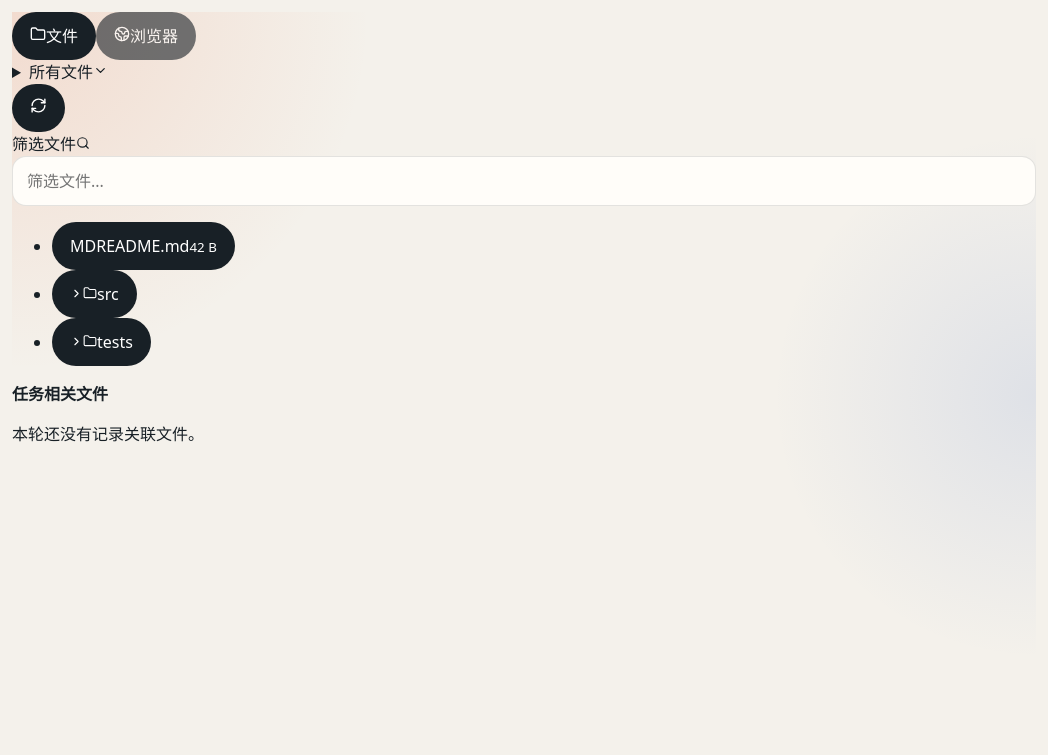
Test case: FileWorkspacePanel › shows changed files above the tree and opens their diff as review context
Click the heading named "选择文件范围".
click(68, 72)  # box [29,61,108,83]
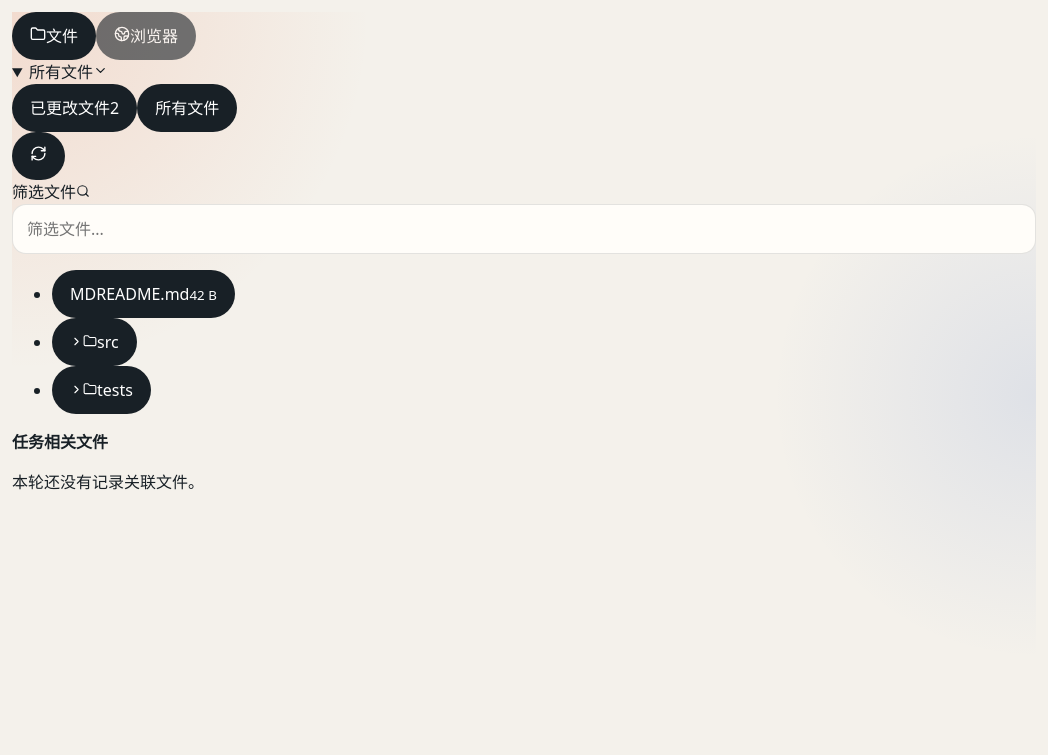
Click the menu item "已更改文件2".
click(75, 108)  # box [12,84,137,132]
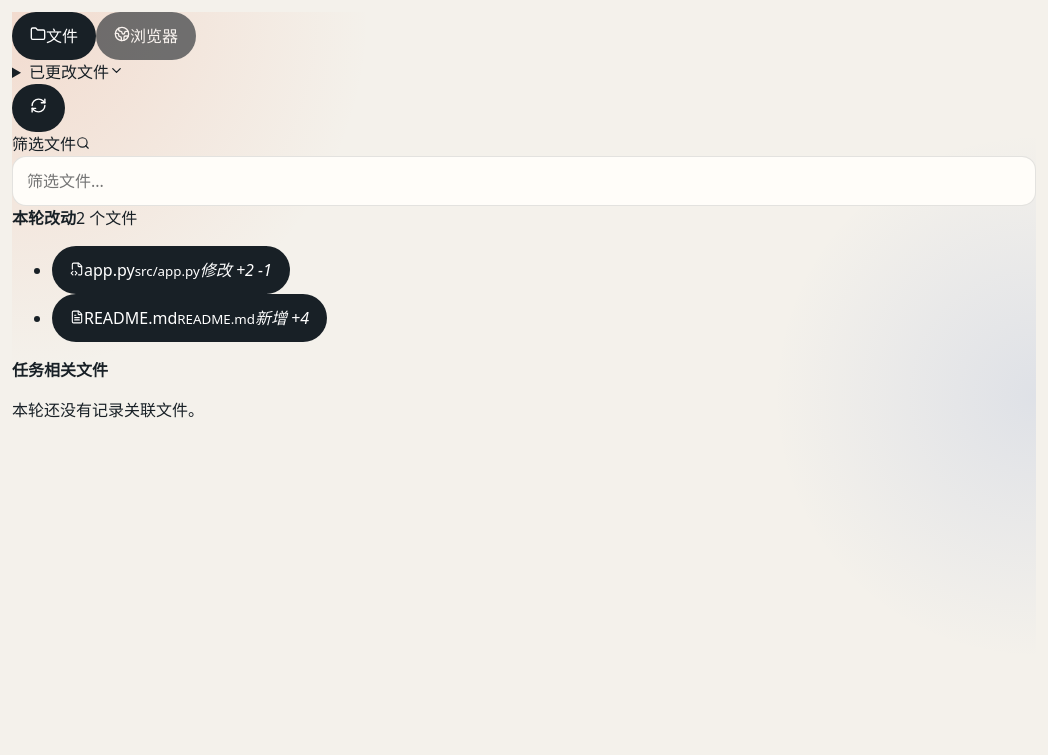
expect the text "本轮改动" is shown: met, box [12,207,76,229]
expect the text "2 个文件" is shown: met, box [76,207,137,229]
expect the button "app.py" shows "修改 +2 -1": met
Click the button "app.py".
click(171, 270)  # box [52,246,290,294]
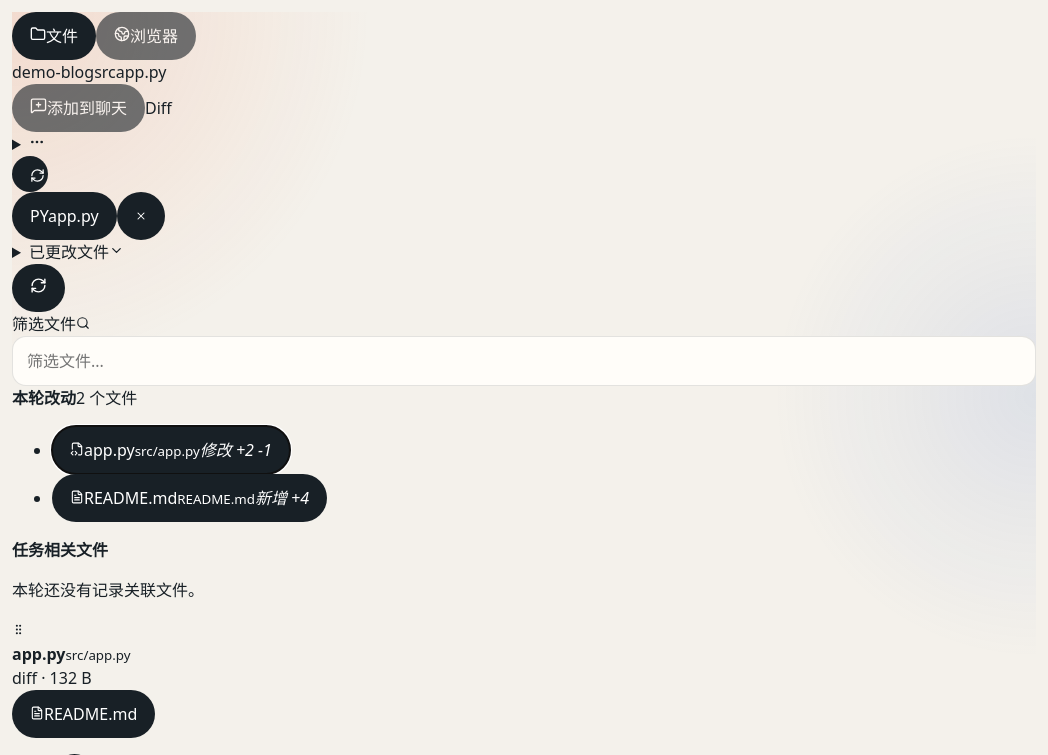
expect the text "Diff" is shown: met, box [145,97,172,119]
